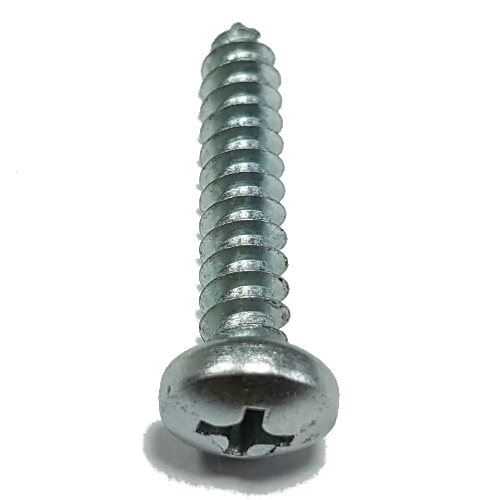Tornillo: (152, 16, 342, 467)
